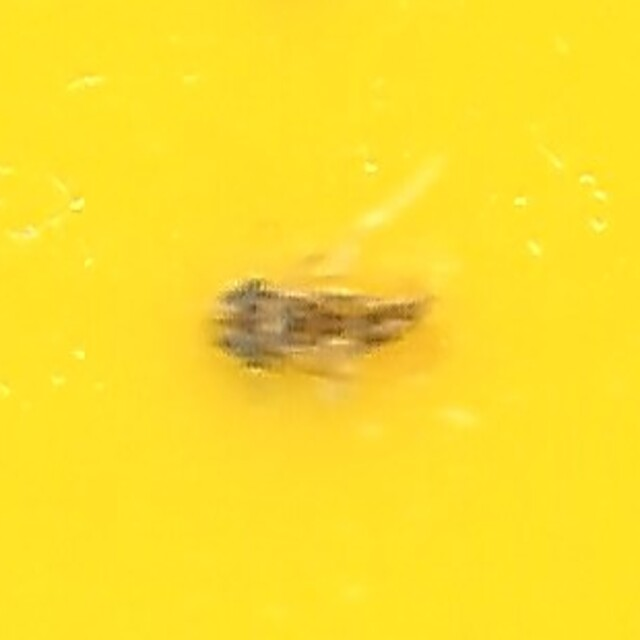Hemiptera: (206, 253, 434, 387)
